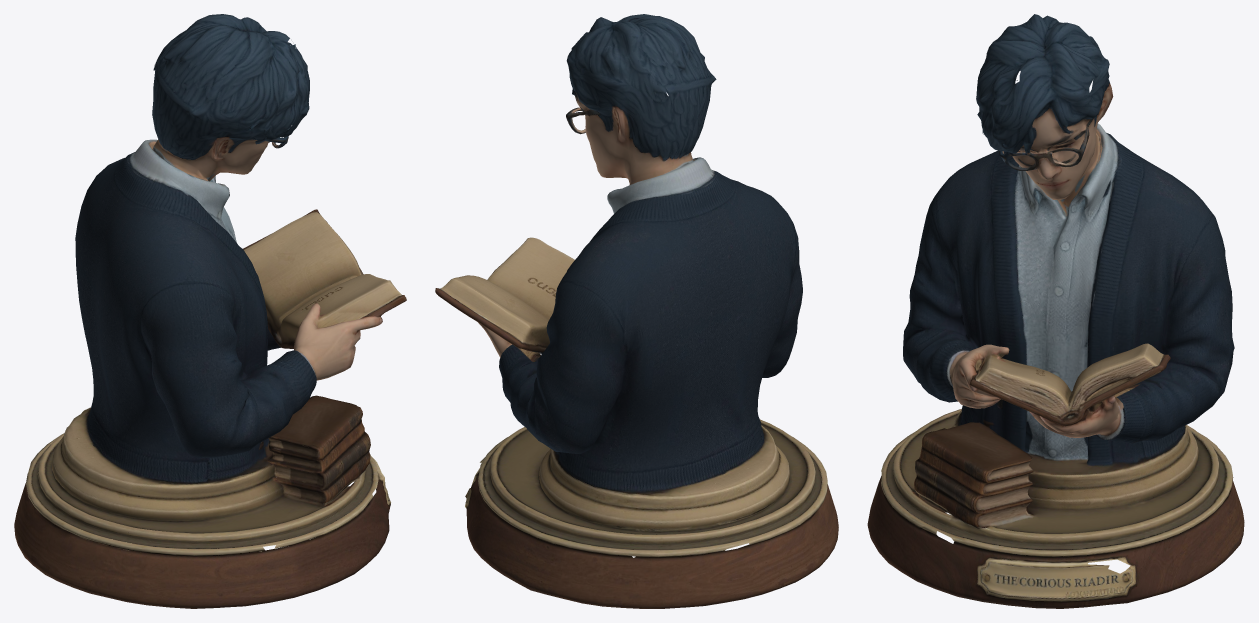
Rendered from reading statue 3d model.glb.
3 views of the same model, side by side, from view 1: azimuth 30°, elevation 25°; view 2: azimuth 150°, elevation 25°; view 3: azimuth 270°, elevation 25° (orthographic).
Visible parts, largest first — view 1: tripo_node_b66d1b32; view 2: tripo_node_b66d1b32; view 3: tripo_node_b66d1b32.
Boxes of the visible parts, x1,y1,x2,y2 form: tripo_node_b66d1b32: (14,14,406,608); tripo_node_b66d1b32: (435,14,838,608); tripo_node_b66d1b32: (867,14,1244,608).
Bounding box in the file's own units: 0.6997 × 0.9988 × 0.6594.
Materials: 1 (1 with a texture image).
